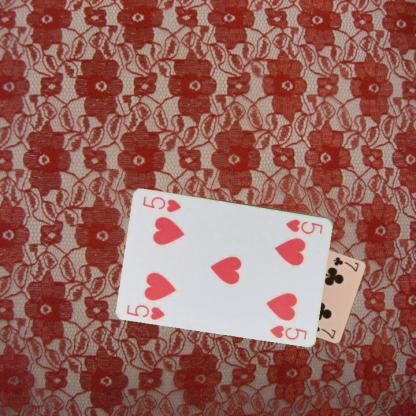5h: (124, 302, 166, 321), (284, 216, 324, 235)
7c: (330, 254, 360, 274)
